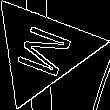M_E: (8, 20, 76, 81)
